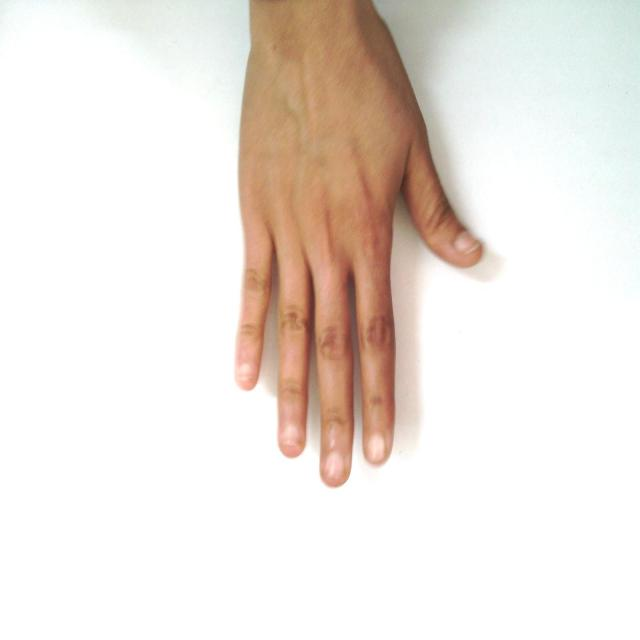others: (171, 1, 544, 490)
